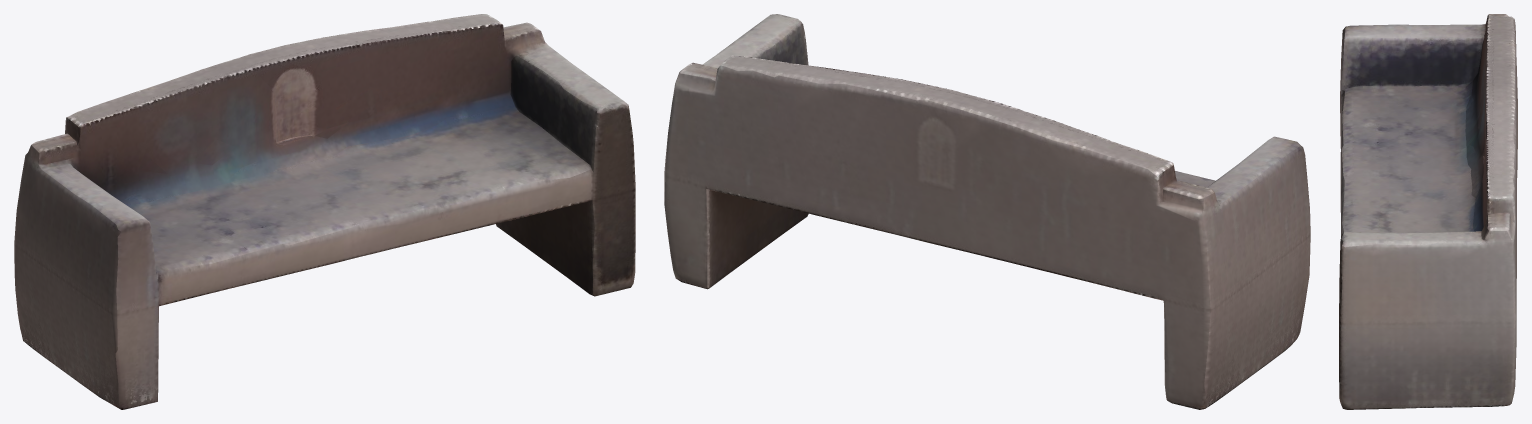
The model's file is bench-concrete.glb.
3 views of the same model, side by side, from view 1: azimuth 30°, elevation 25°; view 2: azimuth 150°, elevation 25°; view 3: azimuth 270°, elevation 25° (orthographic). The views are drawn at different scales.
Visible parts, largest first — view 1: bench01; view 2: bench01; view 3: bench01.
Part boxes in pixels (x1,y1,x2,y2): bench01: (14, 14, 635, 409); bench01: (664, 14, 1310, 409); bench01: (1339, 14, 1517, 409).
Bounding box in the file's own units: 1.88 × 0.8001 × 0.627.
1 material, 1 textured.
